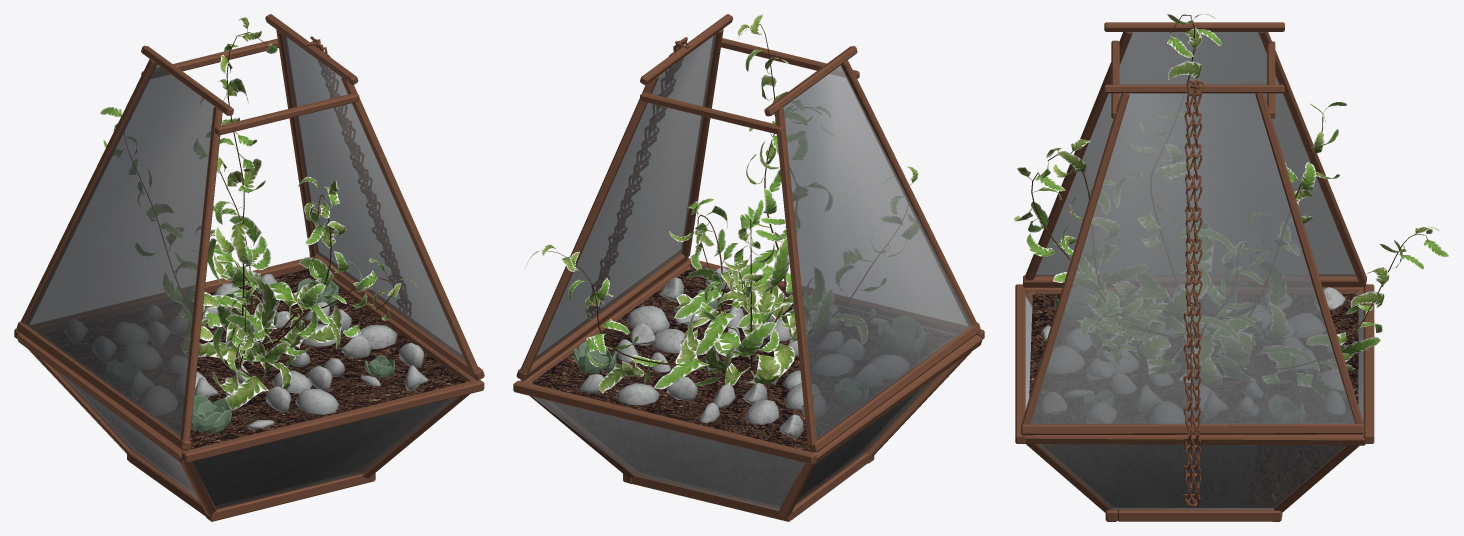
File: plant.glb
3 renders of one model, left to right at view 1: azimuth 30°, elevation 25°; view 2: azimuth 150°, elevation 25°; view 3: azimuth 270°, elevation 25°, orthographic. The views are drawn at different scales.
Visible parts, largest first — view 1: Object_6, Object_10, Object_2, Object_4, Object_9, Object_7, Object_3; view 2: Object_6, Object_10, Object_2, Object_4, Object_9, Object_7, Object_3; view 3: Object_6, Object_10, Object_2, Object_4, Object_9, Object_7, Object_3.
Boxes of the visible parts, x1=… form: Object_6: x1=25, y1=34, x2=465, y2=509; Object_10: x1=14, y1=14, x2=484, y2=521; Object_2: x1=44, y1=268, x2=465, y2=505; Object_4: x1=100, y1=17, x2=416, y2=410; Object_9: x1=65, y1=273, x2=428, y2=429; Object_7: x1=104, y1=278, x2=394, y2=433; Object_3: x1=124, y1=32, x2=394, y2=384; Object_6: x1=532, y1=34, x2=972, y2=510; Object_10: x1=513, y1=14, x2=984, y2=521; Object_2: x1=532, y1=268, x2=952, y2=506; Object_4: x1=525, y1=14, x2=929, y2=393; Object_9: x1=579, y1=267, x2=909, y2=438; Object_7: x1=573, y1=289, x2=927, y2=404; Object_3: x1=547, y1=24, x2=902, y2=373; Object_6: x1=1025, y1=32, x2=1363, y2=509; Object_10: x1=1015, y1=22, x2=1374, y2=521; Object_2: x1=1029, y1=294, x2=1358, y2=507; Object_4: x1=1013, y1=14, x2=1449, y2=397; Object_9: x1=1038, y1=284, x2=1345, y2=422; Object_7: x1=1054, y1=285, x2=1304, y2=422; Object_3: x1=1031, y1=14, x2=1425, y2=369.
Bounding box in the file's own units: 26.99 × 37.07 × 31.41.
7 materials, 4 textured.
